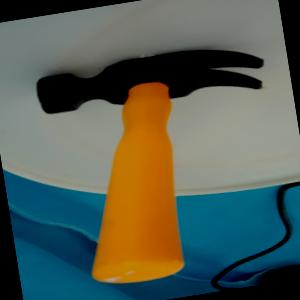martelo: (33, 37, 294, 292)
